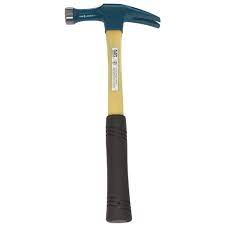hammer: (64, 2, 161, 223)
